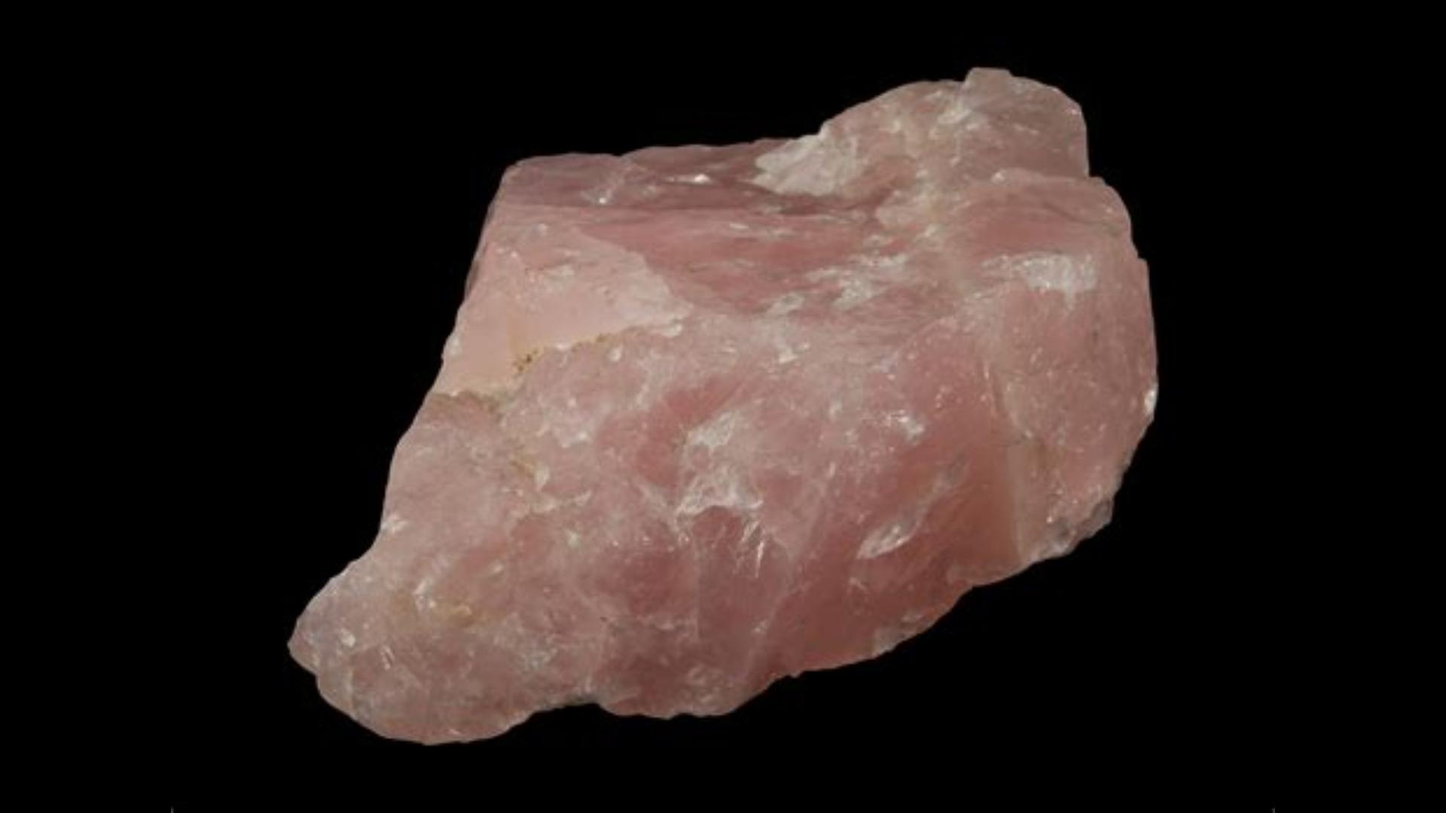rock: (297, 70, 1152, 741)
